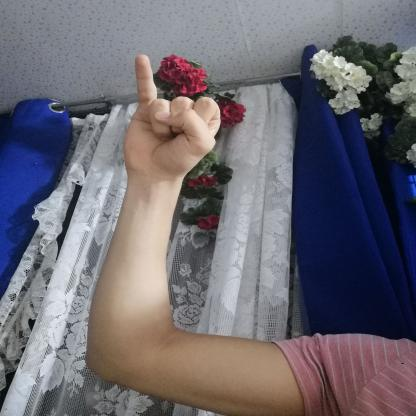MEEM: (105, 46, 228, 182)
